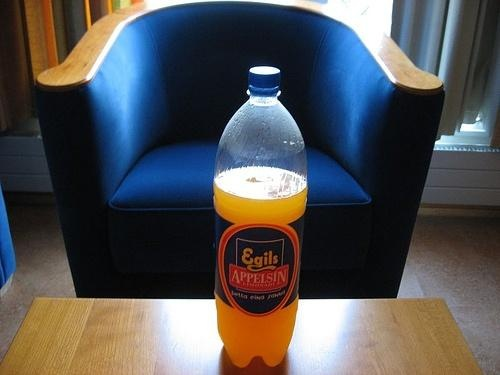bottle: (215, 66, 309, 370)
chair: (38, 1, 447, 301)
